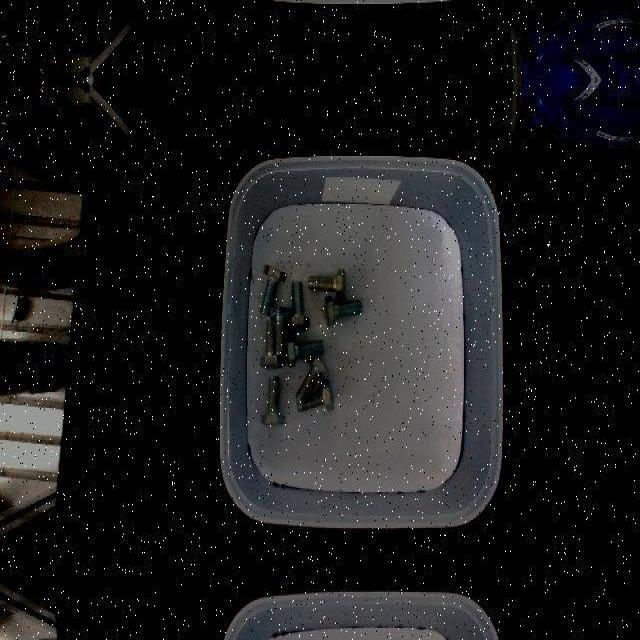screw: (295, 355, 330, 405), (260, 264, 286, 314), (260, 377, 284, 427), (309, 267, 346, 299), (287, 279, 310, 329), (286, 335, 324, 365), (325, 295, 362, 325), (269, 306, 291, 356)
